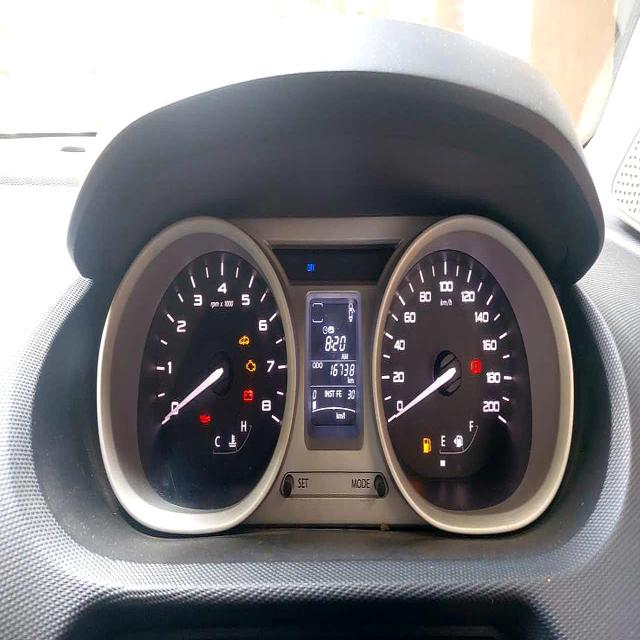odometer: (329, 361, 355, 376)
